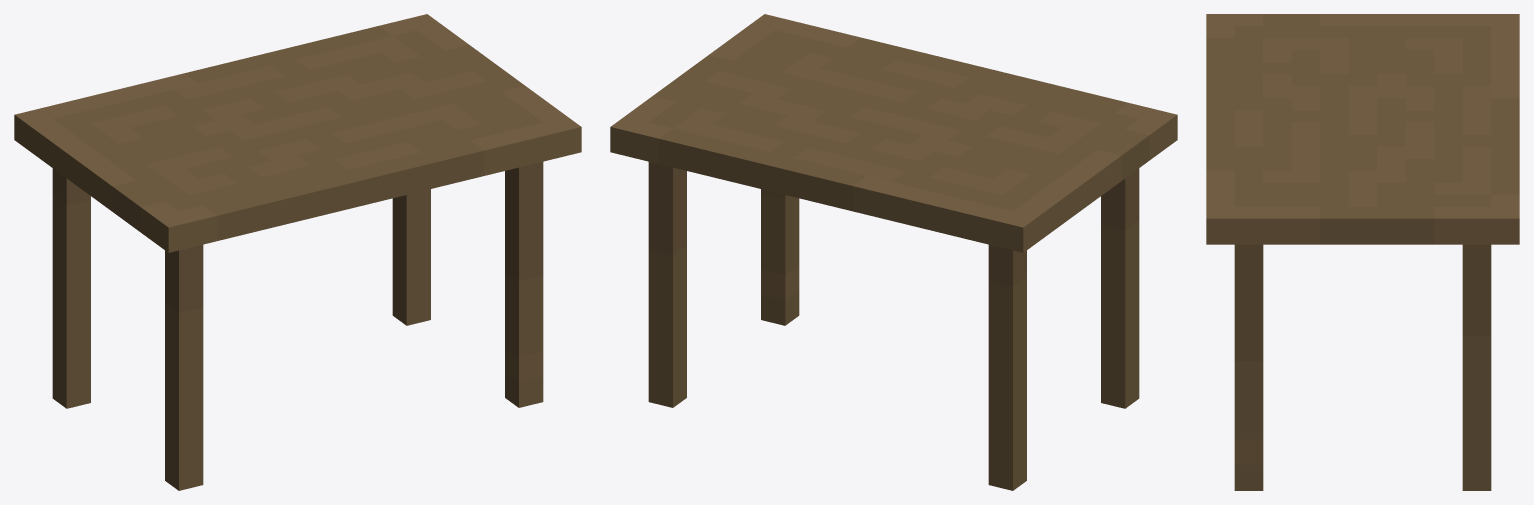
Rendered from Decor-85.obj.
3 renders of one model, left to right at view 1: azimuth 30°, elevation 25°; view 2: azimuth 150°, elevation 25°; view 3: azimuth 270°, elevation 25°, orthographic.
Bounding box in the file's own units: 1.7 × 1.1 × 1.1.
1 material, 1 textured.
